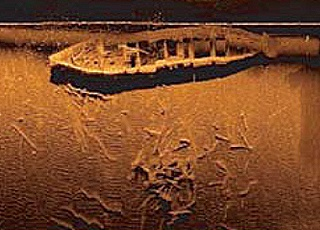ship: (46, 25, 271, 81)
